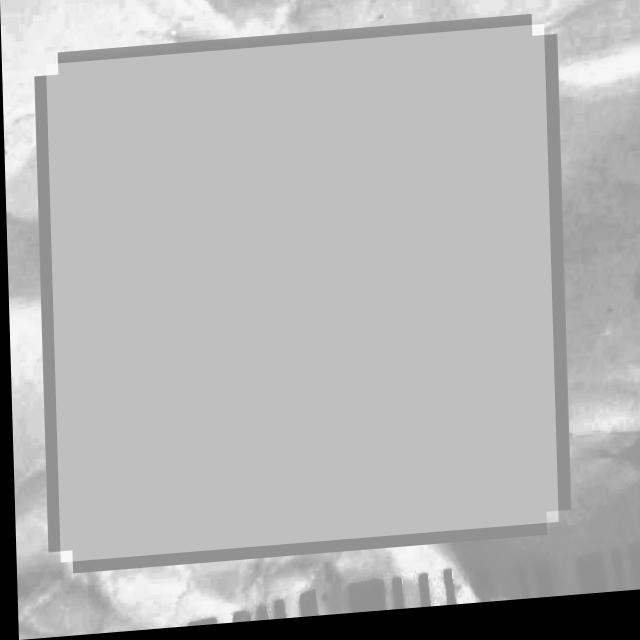qr_code: (46, 33, 556, 563)
